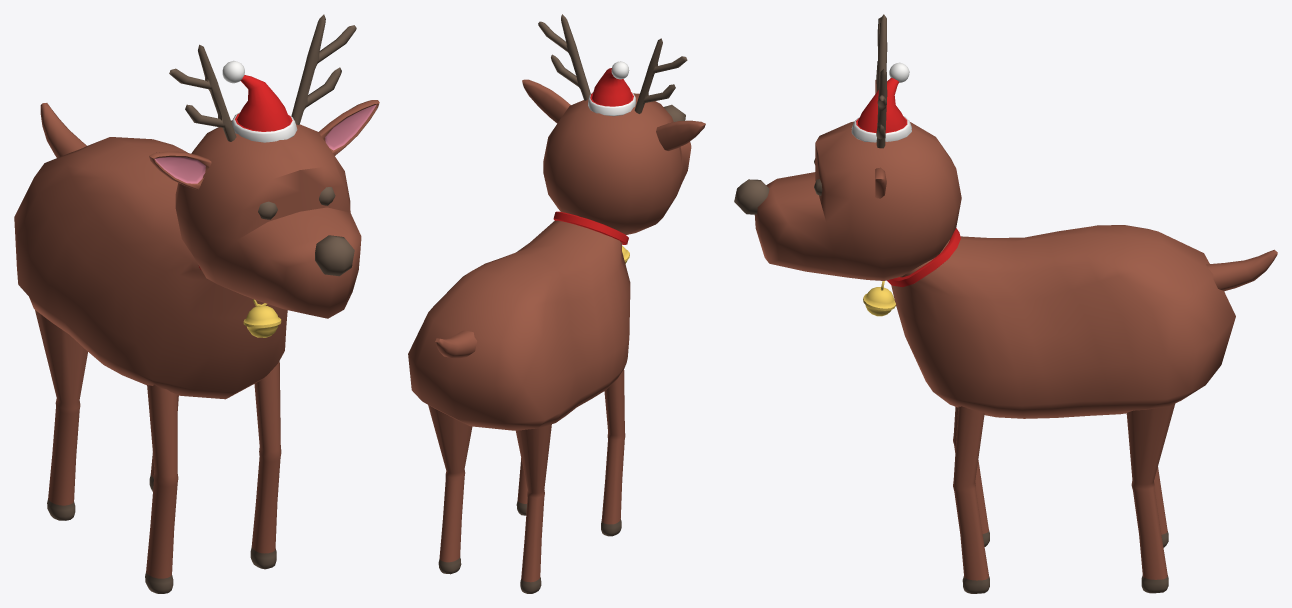
The model's file is Deer_2.glb.
3 views of the same model, side by side, from view 1: azimuth 30°, elevation 25°; view 2: azimuth 150°, elevation 25°; view 3: azimuth 270°, elevation 25° (orthographic). The views are drawn at different scales.
Parts seen in each view (by area): view 1: Deer_2; view 2: Deer_2; view 3: Deer_2.
Part boxes in pixels (x1,y1,x2,y2): Deer_2: (14,14,379,593); Deer_2: (408,14,705,593); Deer_2: (734,14,1277,593).
Bounding box in the file's own units: 0.7063 × 1.73 × 1.62.
1 material, 1 textured.
